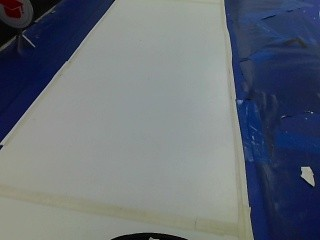school: (0, 0, 28, 28)
